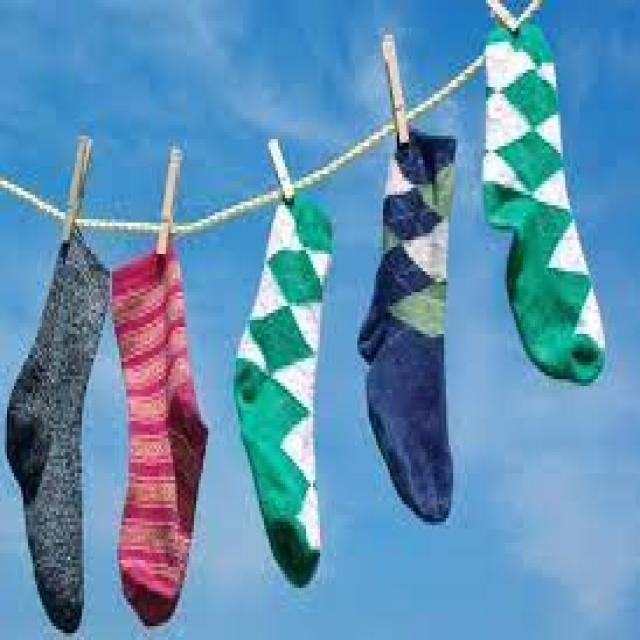Clothes -Biodegradable-: (7, 229, 210, 633), (480, 23, 609, 387), (354, 136, 459, 518), (236, 197, 333, 586)
